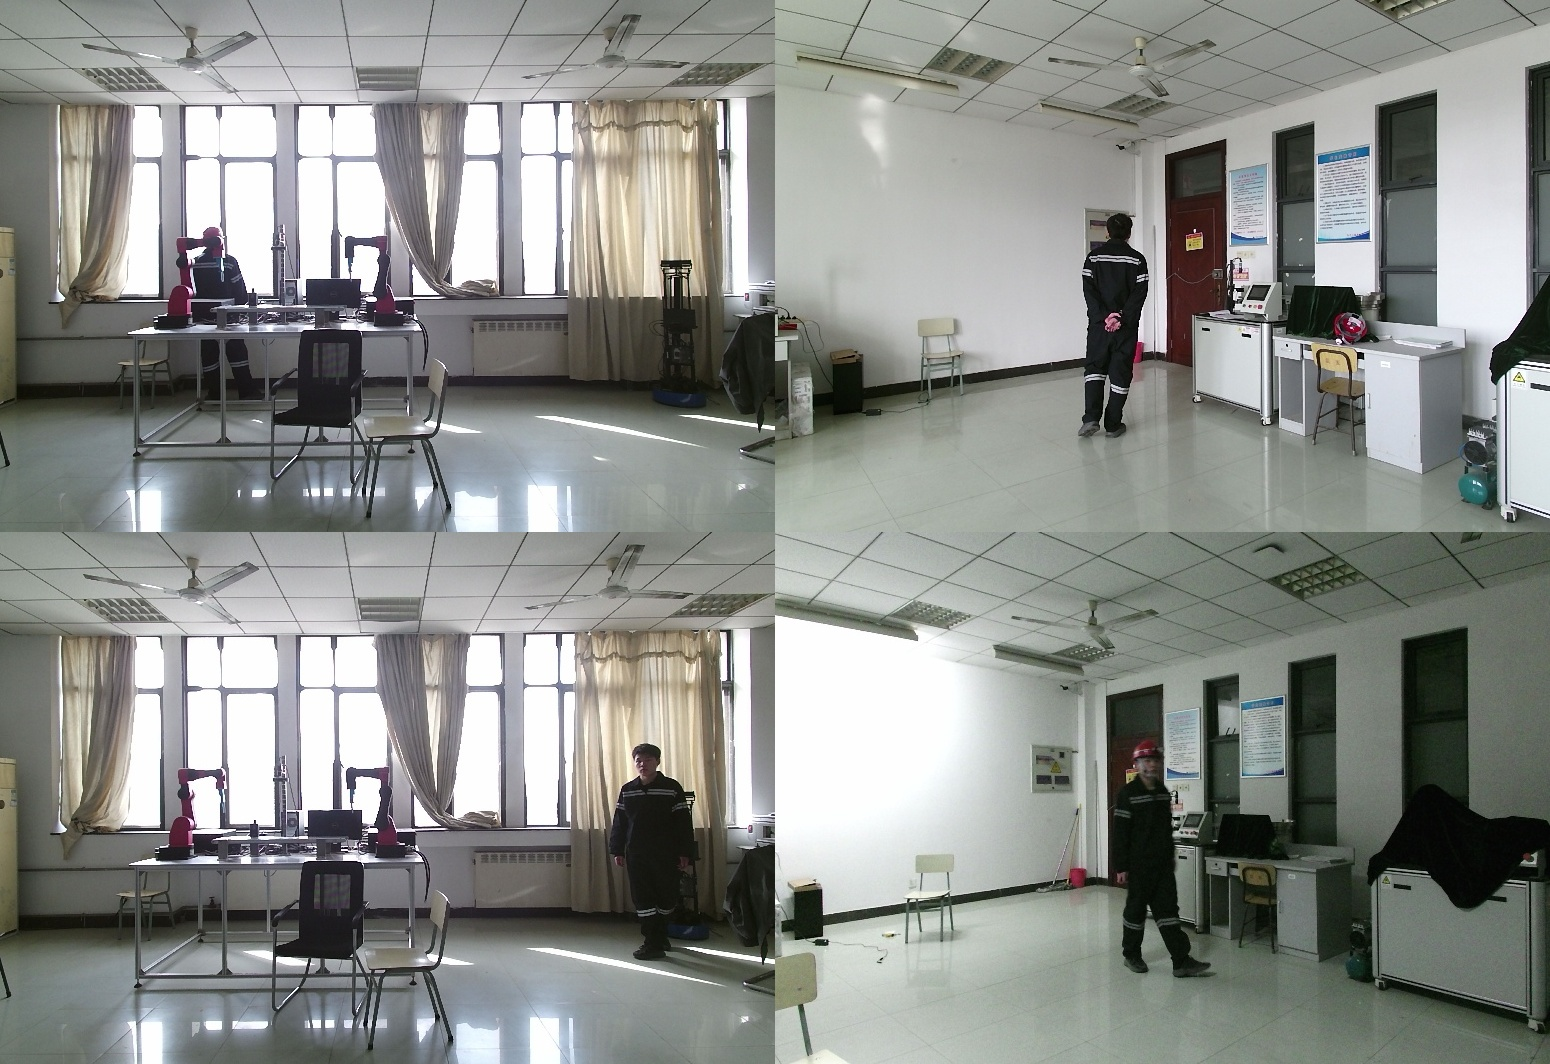person: (1108, 741, 1214, 977), (614, 745, 706, 962), (1074, 213, 1157, 440), (185, 228, 262, 407)
